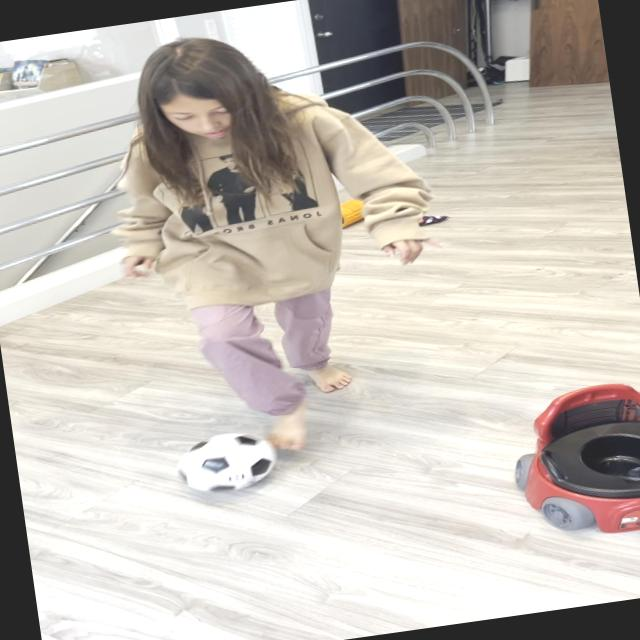Soccer Ball: (171, 427, 281, 498)
